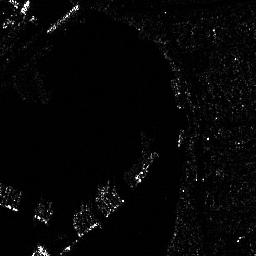ship: (46, 4, 80, 34), (134, 152, 159, 186)
